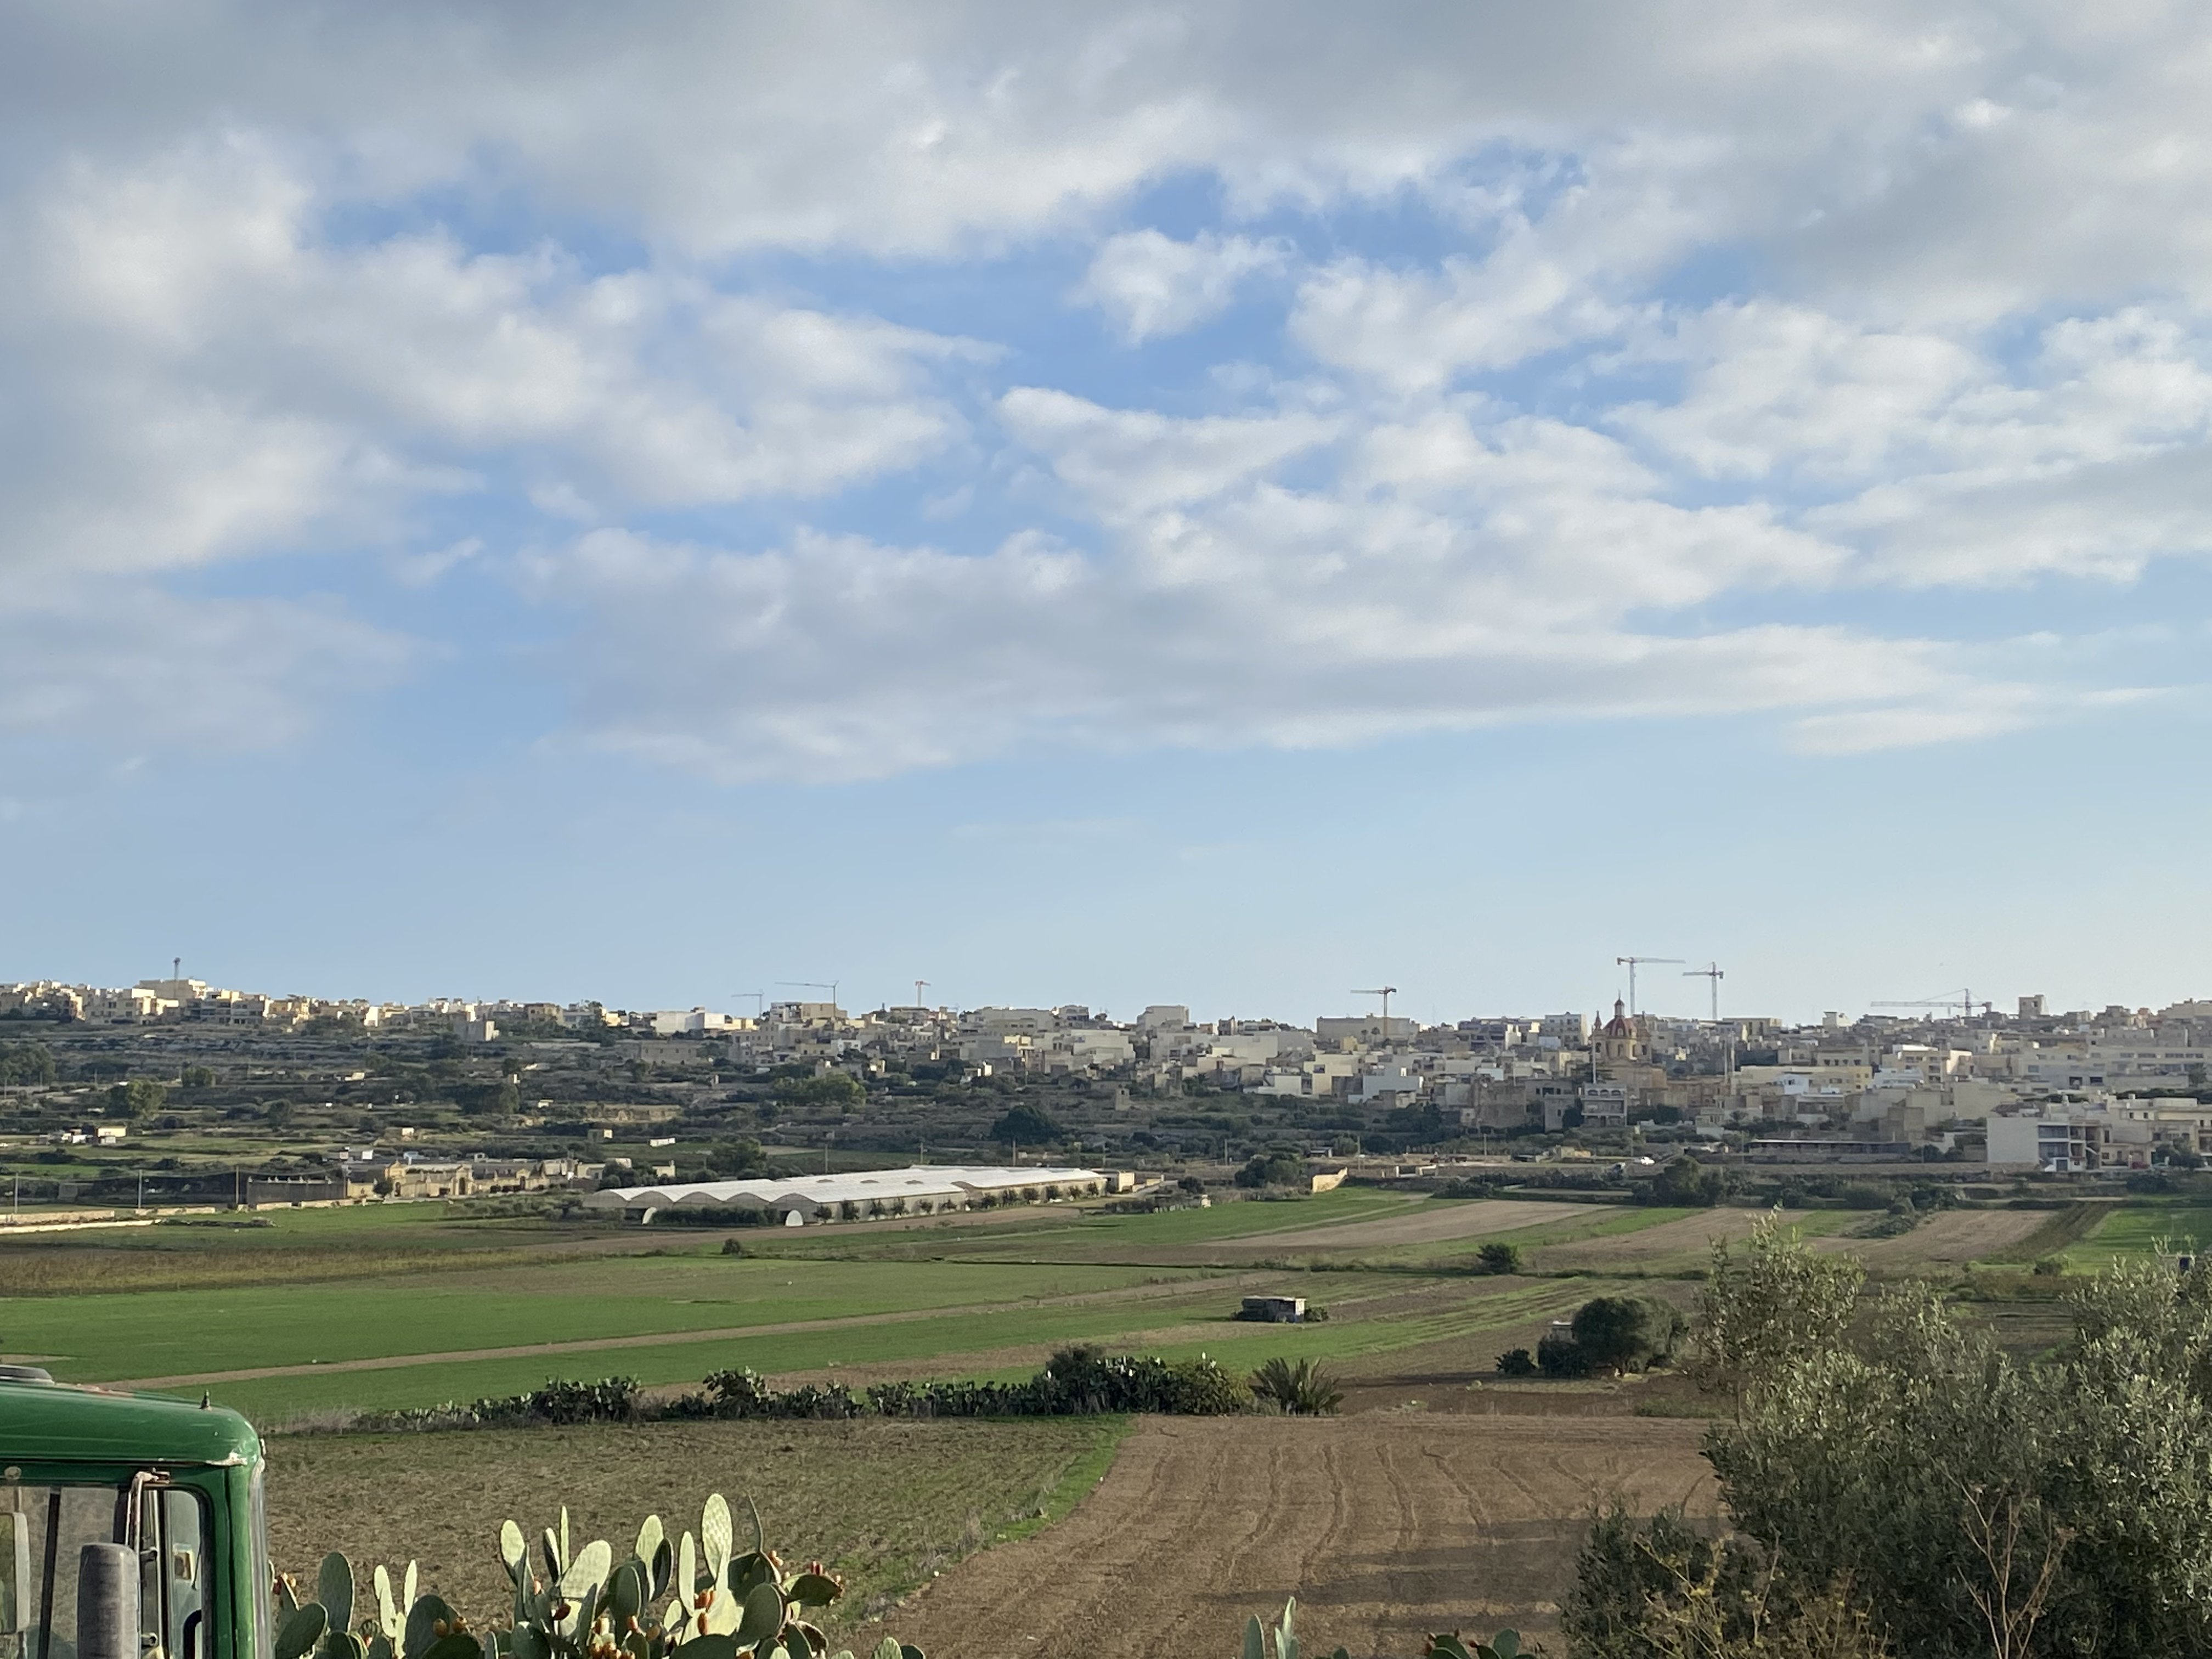crane: (1571, 936, 1703, 990)
